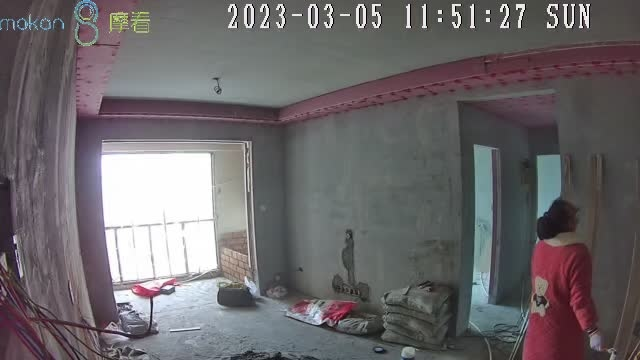people: (521, 199, 605, 360)
window: (102, 152, 218, 274)
